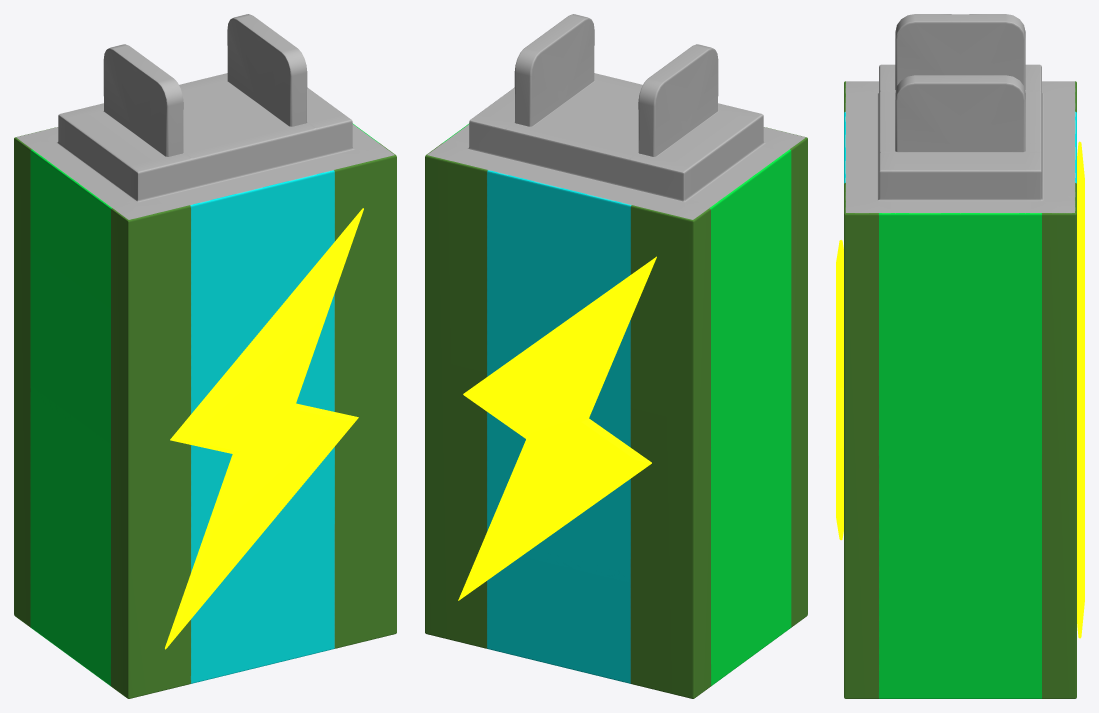
Rendered from denti.fbx.
The picture shows the model from 3 angles, left to right: view 1: azimuth 30°, elevation 25°; view 2: azimuth 150°, elevation 25°; view 3: azimuth 270°, elevation 25°; orthographic projection.
Visible parts, largest first — view 1: polySurface24; view 2: polySurface24; view 3: polySurface24.
Boxes of the visible parts, <box> form: polySurface24: <box>14,14,396,698</box>; polySurface24: <box>425,14,807,698</box>; polySurface24: <box>836,14,1084,698</box>.
Size of the model in its own units: 14.81 by 30.26 by 11.66.
1 material, 1 textured.
